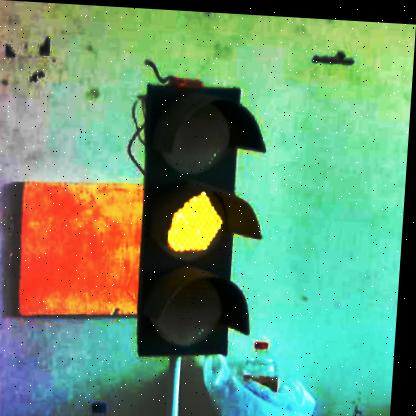Traffic Light -Yellow-: (136, 84, 266, 355)
